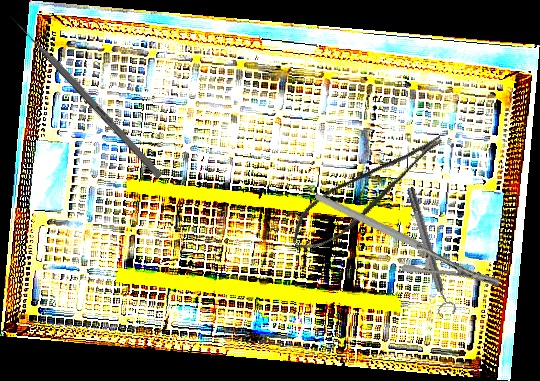Fixation Ring: (401, 184, 458, 319)
Micro Scissor: (279, 130, 460, 259)
Needle Holder: (313, 144, 504, 335)
Pusher: (7, 13, 164, 179)
